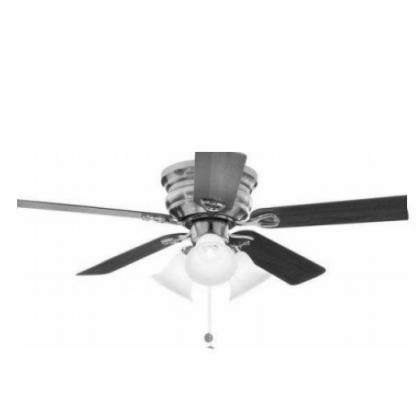ceiling-fan: (17, 152, 408, 348)
